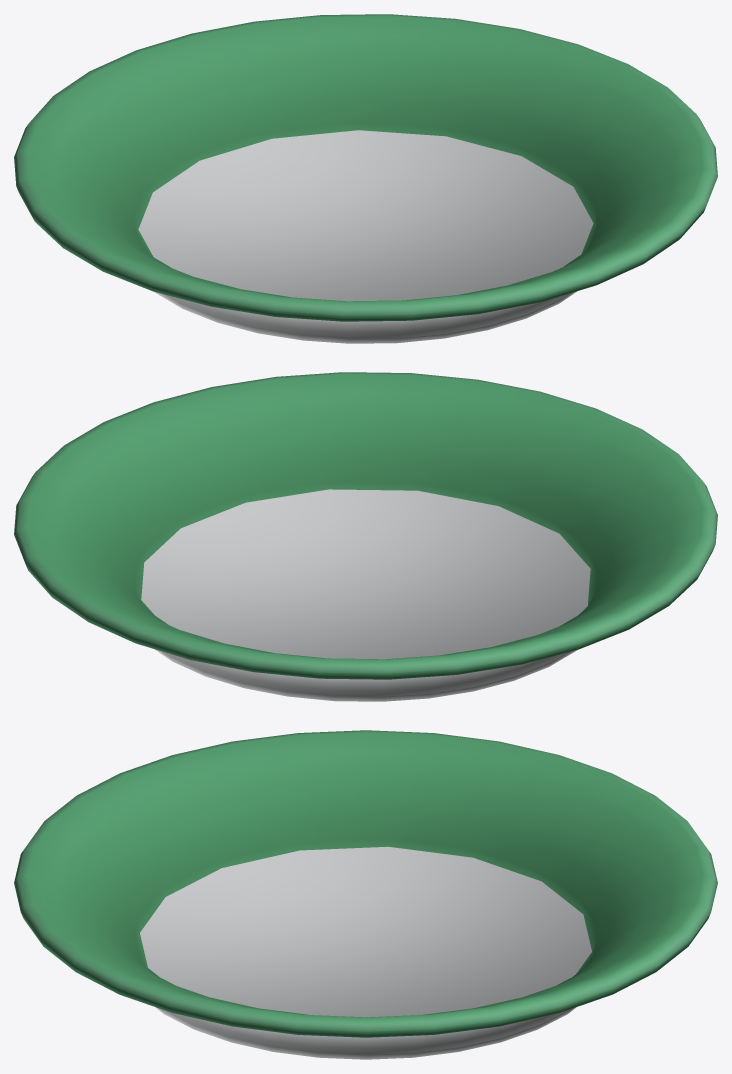
File: plate_006.fbx
3 views of the same model, one above another, from view 1: azimuth 30°, elevation 25°; view 2: azimuth 150°, elevation 25°; view 3: azimuth 270°, elevation 25° (orthographic).
Visible parts, largest first — view 1: plate_006; view 2: plate_006; view 3: plate_006.
Part boxes in pixels (x1,y1,x2,y2): plate_006: [14, 14, 717, 343]; plate_006: [14, 372, 717, 701]; plate_006: [14, 730, 717, 1059].
Bounding box in the file's own units: 23.24 × 23.24 × 2.98.
